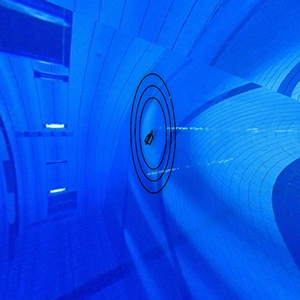circle: (126, 70, 180, 198)
submarine: (143, 125, 158, 149)
